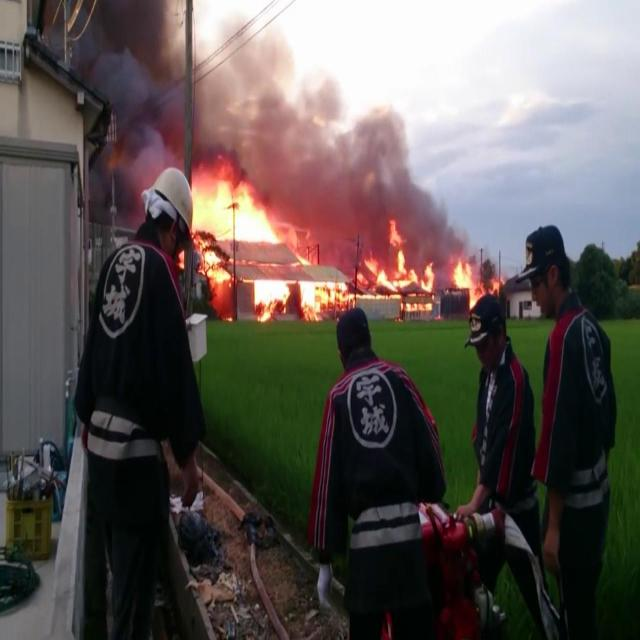Fire: (192, 186, 284, 282), (352, 222, 434, 310), (454, 260, 500, 306), (298, 284, 352, 319), (255, 279, 295, 321), (287, 226, 315, 266)
